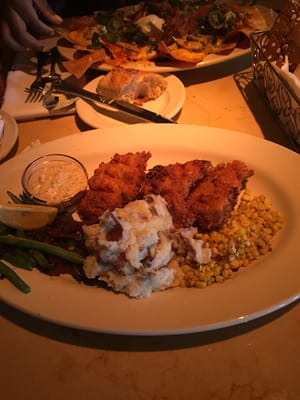sandwich: (52, 83, 180, 125)
sushi: (4, 153, 89, 230)
